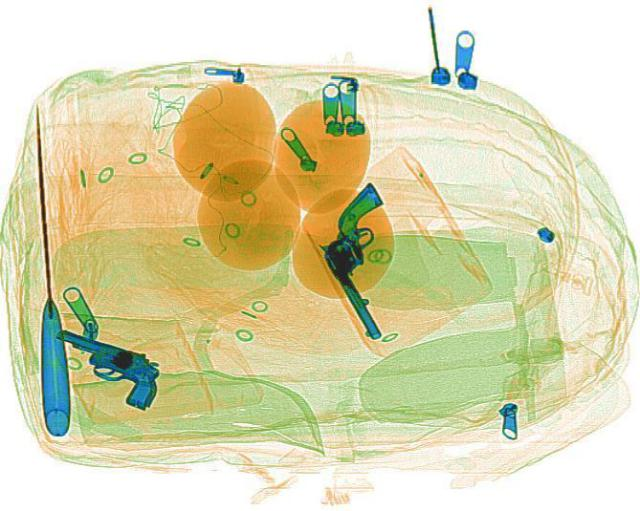Gun: (292, 180, 446, 339), (30, 325, 176, 409)
Knife: (20, 103, 74, 434)
